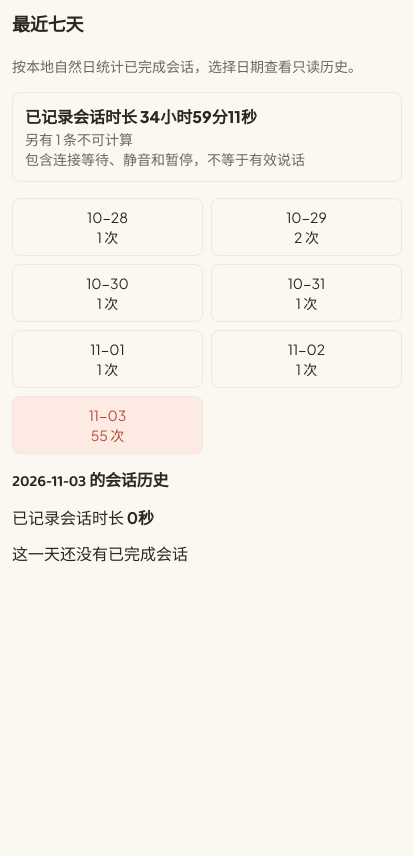
it: WeeklyProgress 已记录会话时长 › 七桶精确总和、选中日切日、0/不到1秒/超过24小时与请求次数保持
This screenshot has width=414, height=856.
Expected: the element with test id "weekly-progress" shows "包含连接等待、静音和暂停，不等于有效说话", [25, 150, 305, 168]
Expected: the element with test id "weekly-progress" shows "另有 1 条不可计算", [25, 130, 133, 148]
Click the button named "2026-10-28，已完成会话 1 次".
click(108, 227)  # box [12, 198, 203, 256]
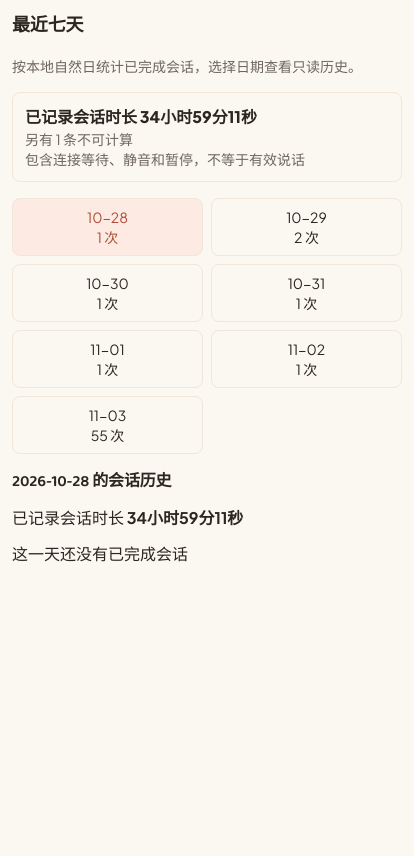
Expected: the text "已记录会话时长 34小时59分11秒" is shown, [25, 106, 257, 127]
Click the button named "2026-10-29，已完成会话 2 次".
click(306, 227)  # box [211, 198, 402, 256]
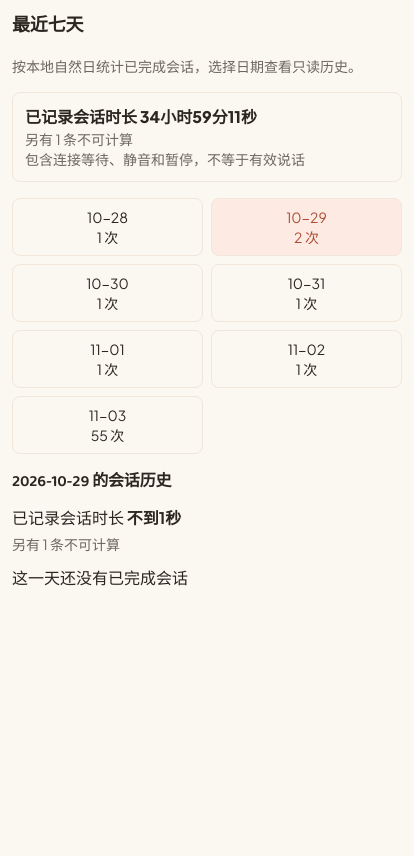
Expected: the text "另有 1 条不可计算" is shown, [25, 130, 133, 148]
Now the text "已记录会话时长 不到1秒" is shown, box [12, 507, 181, 528]
